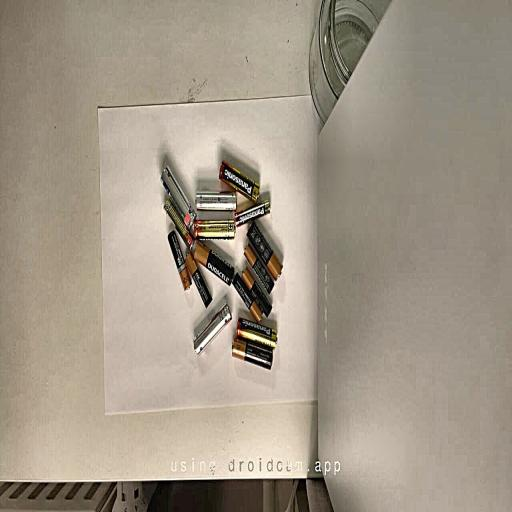DuracellAA: (247, 221, 282, 279), (192, 241, 234, 285), (232, 337, 273, 370)
DuracellAAA: (233, 269, 272, 321), (244, 245, 274, 294), (185, 253, 212, 307), (168, 230, 191, 289)
PanasonicAA: (219, 160, 259, 201), (237, 317, 277, 349), (194, 219, 235, 239)
PanasonicAAA: (164, 197, 194, 247), (235, 200, 270, 227)
RainbowAA: (161, 166, 196, 230), (193, 301, 232, 354), (196, 191, 236, 210)
